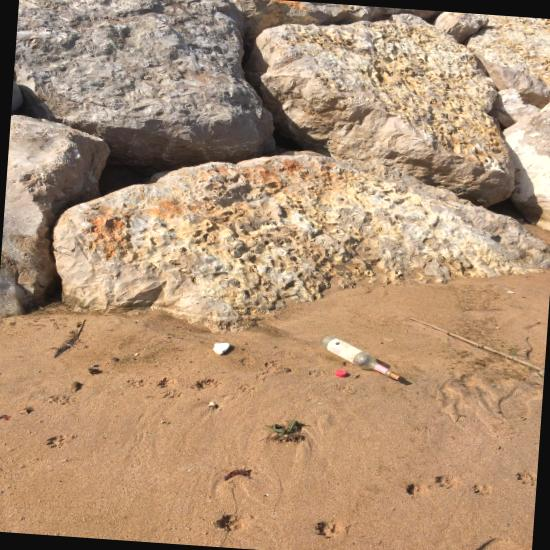Glass bottle: (319, 334, 393, 377)
Plastic bottle cap: (335, 369, 346, 377)
Plastic film: (528, 370, 544, 385)
Rope - strings: (269, 419, 297, 433)
Styrofoam piece: (213, 342, 229, 355)
